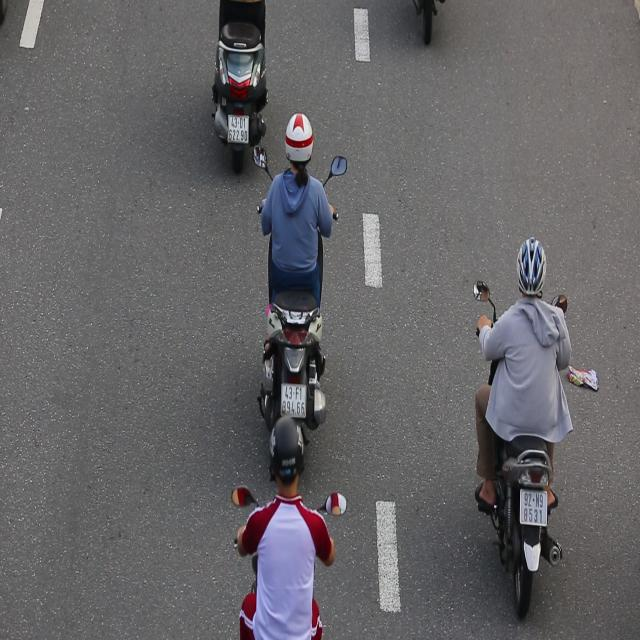motorbike: (460, 227, 576, 625), (249, 120, 352, 477)
